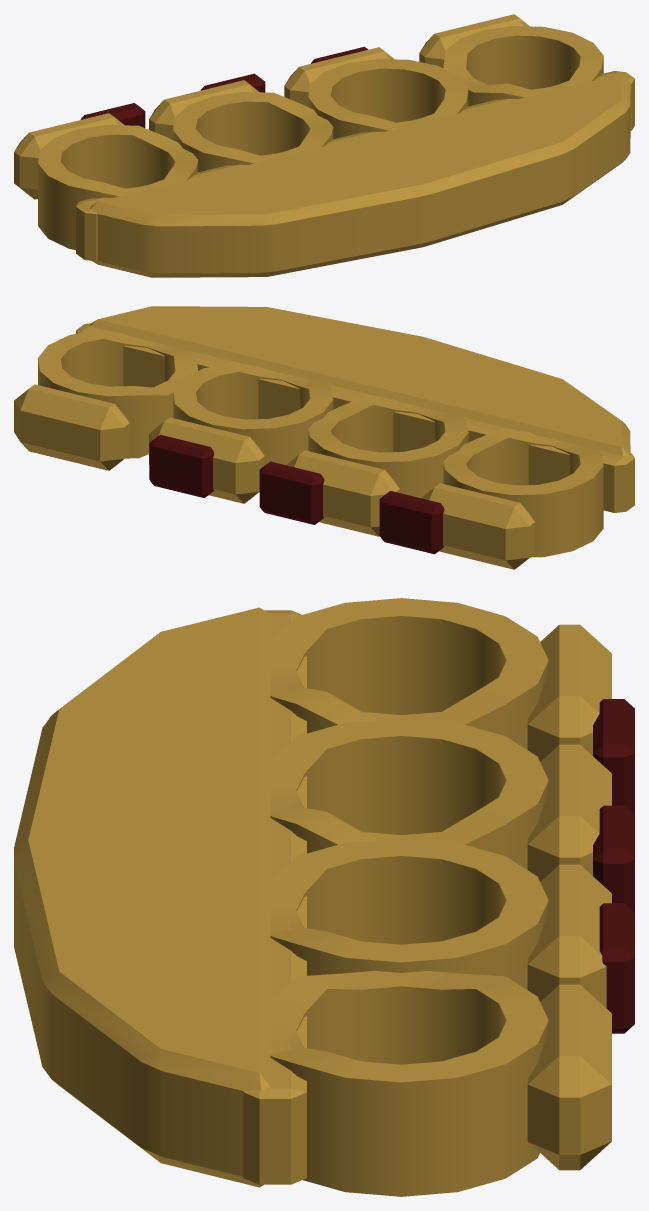
Rendered from brass_knuckles.glb.
3 renders of one model, top to bottom at view 1: azimuth 30°, elevation 25°; view 2: azimuth 150°, elevation 25°; view 3: azimuth 270°, elevation 25°, orthographic. The views are drawn at different scales.
Parts seen in each view (by area): view 1: brass_knuckles; view 2: brass_knuckles; view 3: brass_knuckles.
Part boxes in pixels (left/top/right/bottom): brass_knuckles: left=14, top=14, right=634, bottom=277; brass_knuckles: left=14, top=306, right=634, bottom=569; brass_knuckles: left=14, top=598, right=634, bottom=1196.
Size of the model in its own units: 0.12 by 0.0131 by 0.0644.
